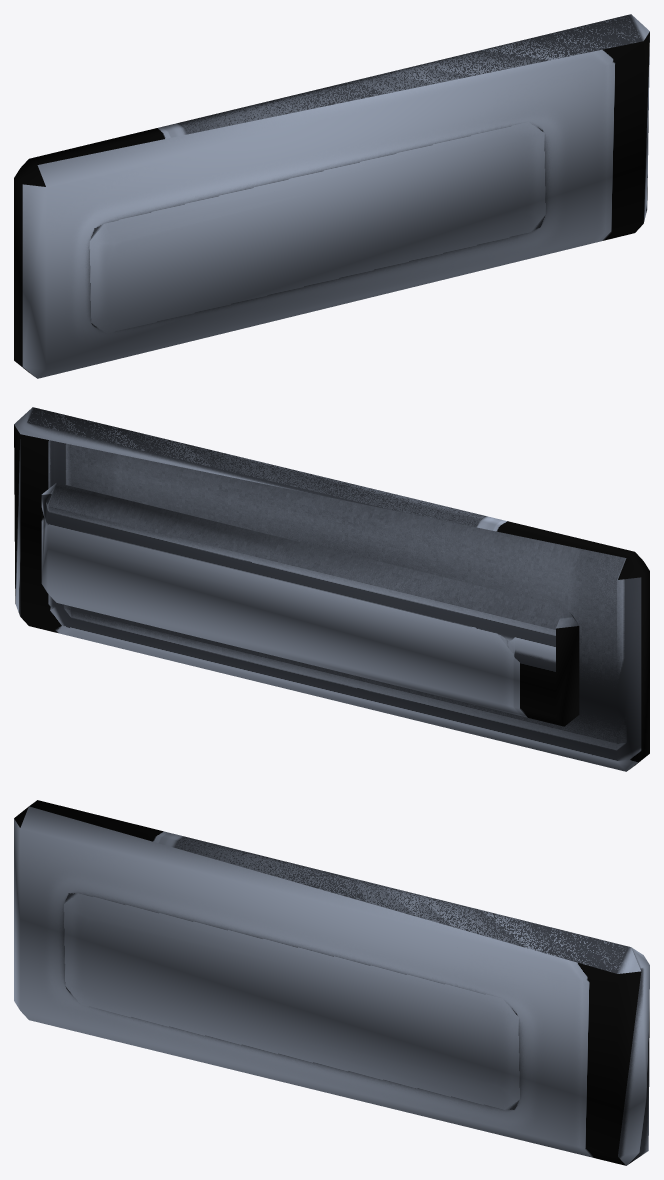
File: Estela_AntebrazoIzq_Acero.fbx
The picture shows the model from 3 angles, top to bottom: view 1: azimuth 30°, elevation 25°; view 2: azimuth 150°, elevation 25°; view 3: azimuth 330°, elevation 25°; orthographic projection.
Parts seen in each view (by area): view 1: Estela_AntebrazoIzq_Acero; view 2: Estela_AntebrazoIzq_Acero; view 3: Estela_AntebrazoIzq_Acero.
Part boxes in pixels (bbox=[...]): Estela_AntebrazoIzq_Acero: bbox=[14, 14, 649, 378]; Estela_AntebrazoIzq_Acero: bbox=[14, 407, 649, 771]; Estela_AntebrazoIzq_Acero: bbox=[14, 800, 649, 1165].
Bounding box in the file's own units: 0.6029 × 0.1974 × 0.0714.
